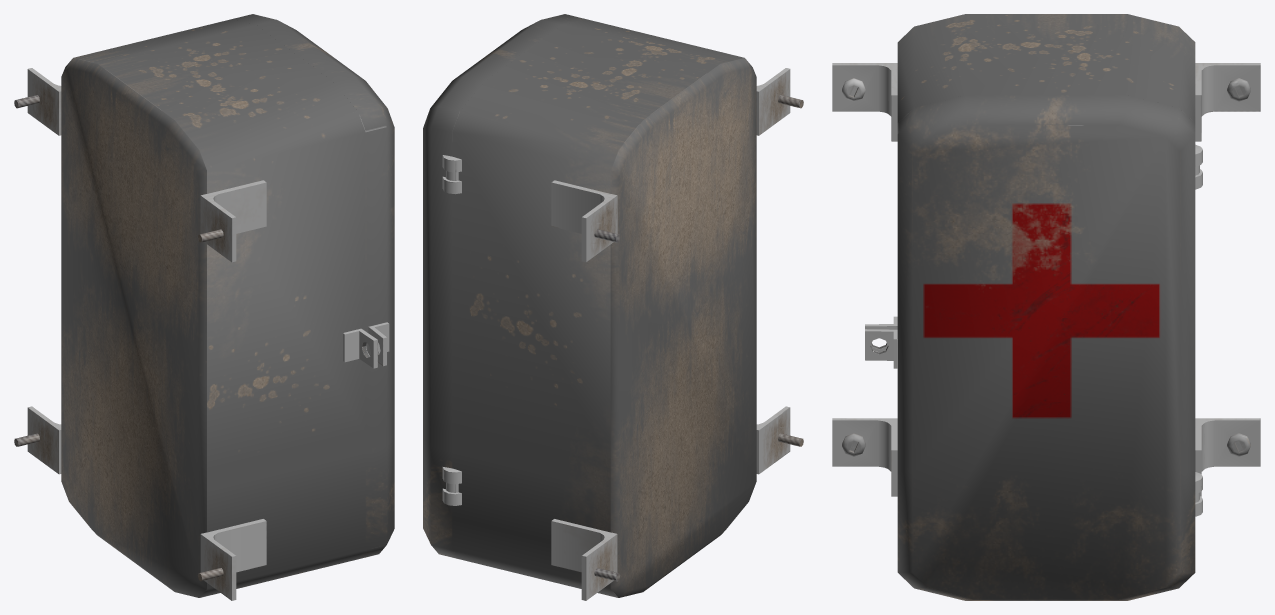
File: медик1.fbx
3 renders of one model, left to right at view 1: azimuth 30°, elevation 25°; view 2: azimuth 150°, elevation 25°; view 3: azimuth 270°, elevation 25°, orthographic. The views are drawn at different scales.
Parts seen in each view (by area): view 1: Окружность.003, Окружность.009; view 2: Окружность.003, Окружность.009; view 3: Окружность.009, Окружность.003.
Part boxes in pixels (<box>): Окружность.003: <box>14,19,377,600</box>; Окружность.009: <box>232,14,394,559</box>; Окружность.003: <box>442,19,803,600</box>; Окружность.009: <box>423,14,585,559</box>; Окружность.009: <box>865,95,1195,600</box>; Окружность.003: <box>832,14,1260,516</box>.
Bounding box in the file's own units: 181 × 367 × 288.
Materials: 1 (1 with a texture image).
